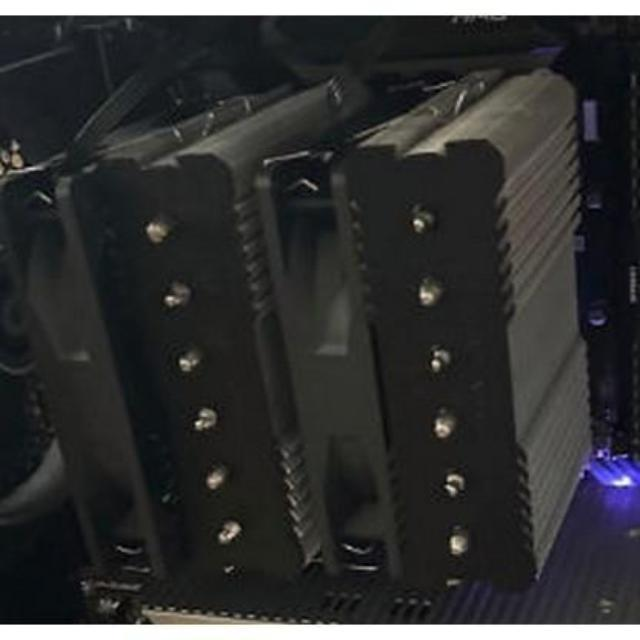CPU_Fan: (2, 64, 607, 614)
